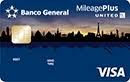tarjeta: (1, 1, 130, 82)
